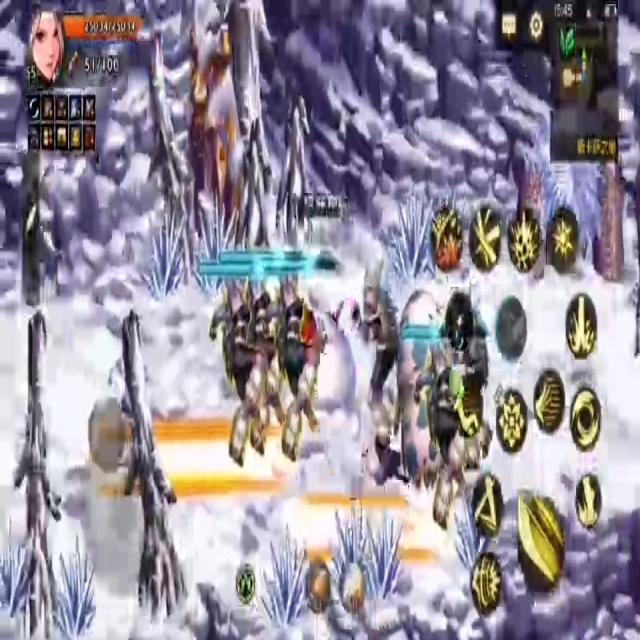player: (301, 294, 362, 448)
